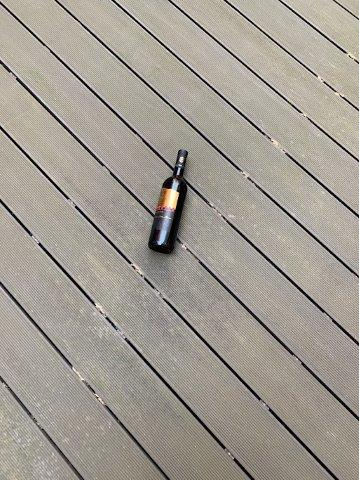botolkaca: (148, 148, 189, 253)
